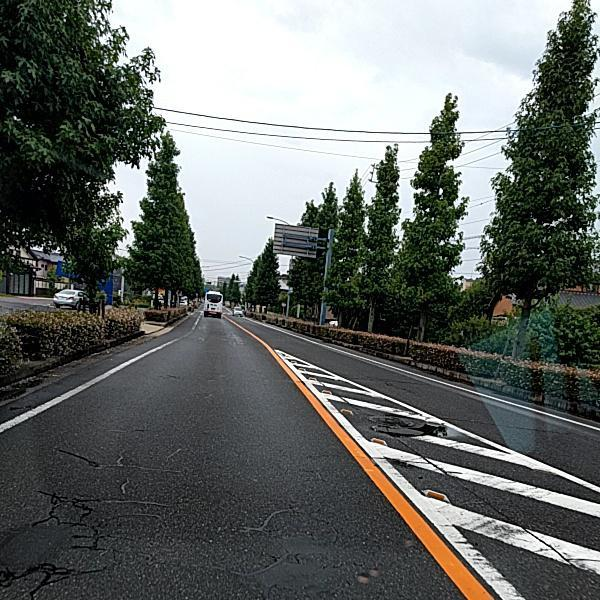D20: (0, 438, 181, 599), (219, 485, 342, 599)
D50: (378, 414, 419, 424)
